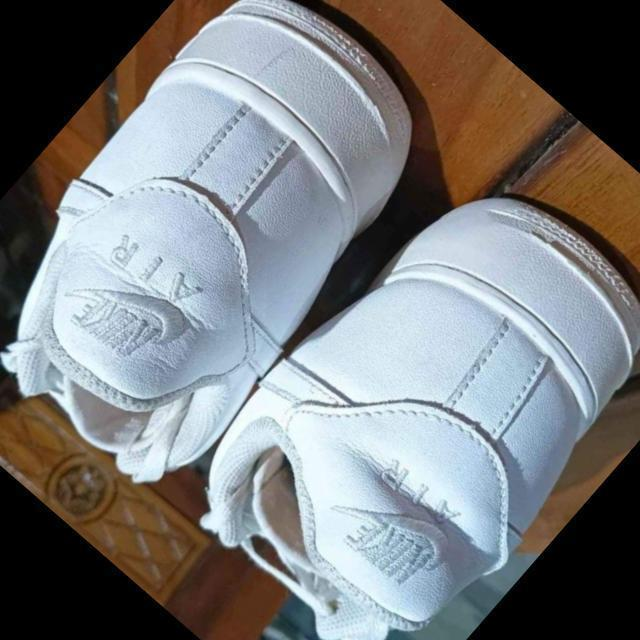nike fake air force: (0, 0, 480, 514), (153, 138, 640, 640)
